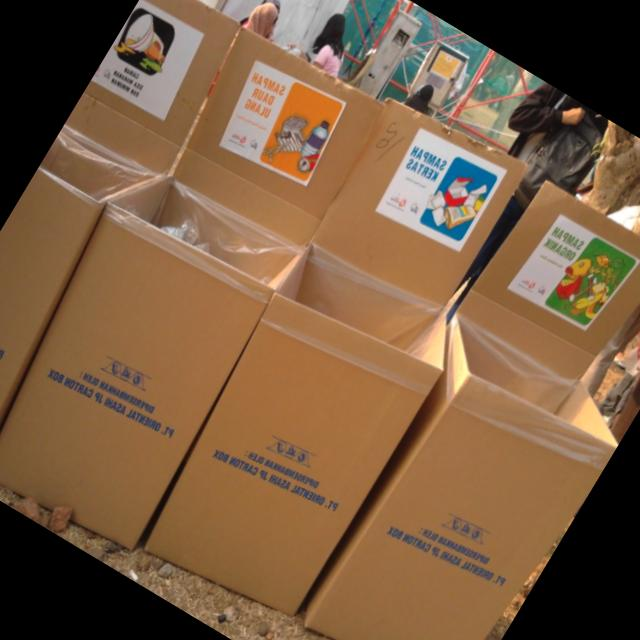Kardus: (121, 84, 552, 634), (0, 6, 387, 558), (276, 176, 640, 640), (0, 0, 243, 480)
